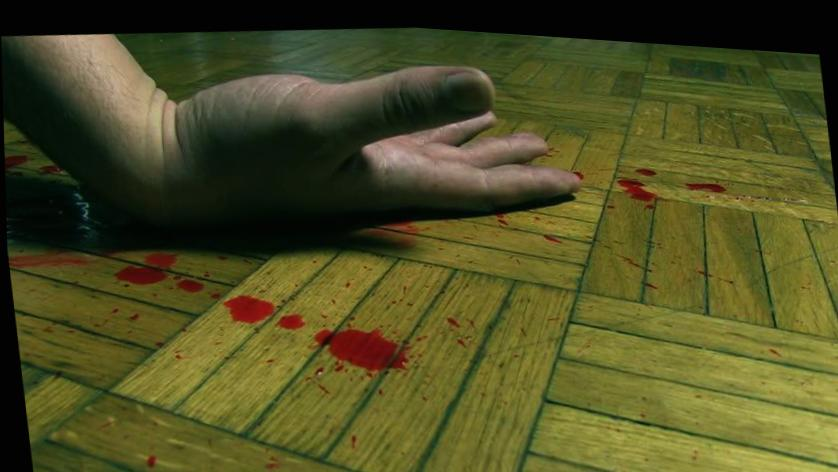Fire: (6, 246, 255, 310), (11, 281, 178, 345), (311, 318, 405, 369), (4, 133, 61, 180), (222, 292, 275, 320), (617, 168, 660, 192), (686, 172, 726, 182), (276, 310, 303, 324), (732, 183, 772, 188), (634, 160, 657, 165), (642, 273, 658, 279), (542, 226, 554, 232), (574, 162, 583, 168), (621, 248, 630, 252)
